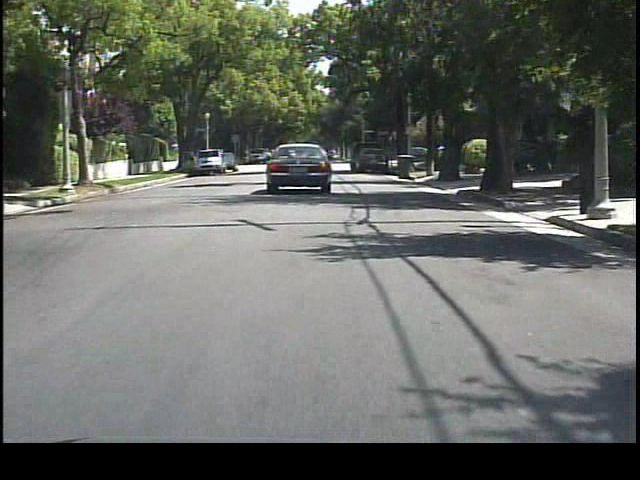car: (262, 138, 337, 196), (194, 145, 230, 177)
strada: (1, 232, 595, 435)
